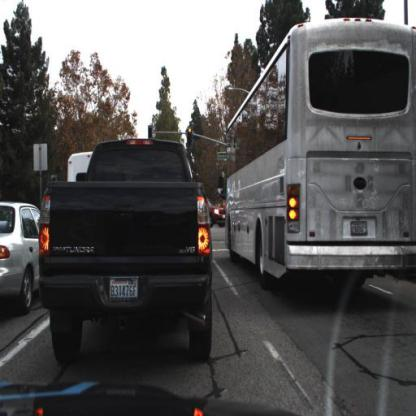car: (43, 141, 210, 352), (1, 198, 43, 320), (210, 196, 228, 228)
trafficLight: (149, 123, 154, 141), (188, 128, 193, 146)
trafficLight-Red: (187, 127, 194, 147)
truck: (224, 20, 416, 293)
